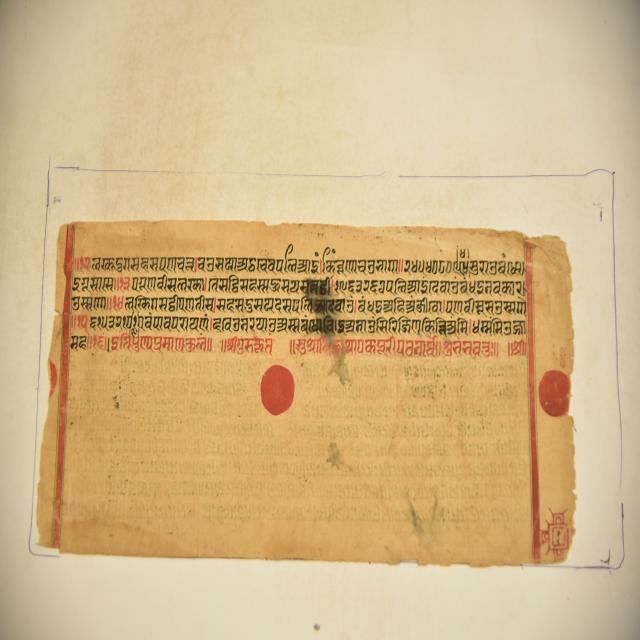text_paragraph: (36, 218, 575, 574)
